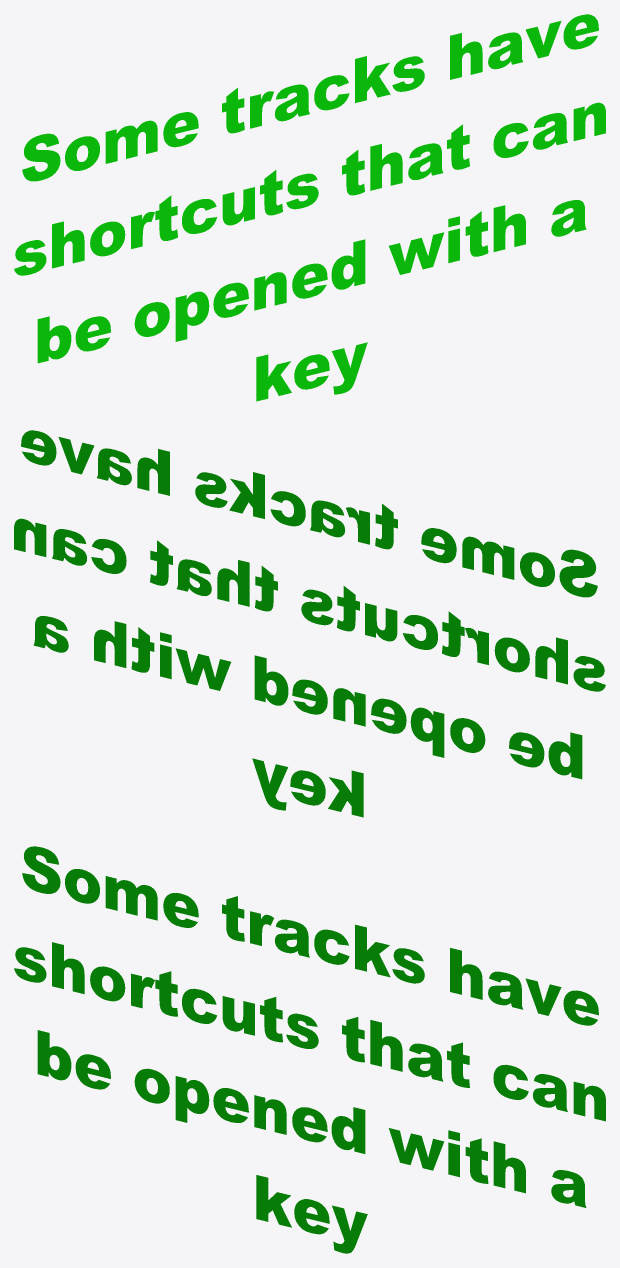
File: tutorial_6.dae
3 views of the same model, one above another, from view 1: azimuth 30°, elevation 25°; view 2: azimuth 150°, elevation 25°; view 3: azimuth 330°, elevation 25° (orthographic).
Parts seen in each view (by area): view 1: Some_tracks_have (×43); view 2: Some_tracks_have (×43); view 3: Some_tracks_have (×43).
Boxes of the visible parts, left/top/right/bottom form: Some_tracks_have (×43): left=14, top=14, right=605, bottom=401; Some_tracks_have (×43): left=14, top=430, right=605, bottom=817; Some_tracks_have (×43): left=14, top=846, right=605, bottom=1253.
Bounding box in the file's own units: 2758 × 2.05e-13 × 1479.
